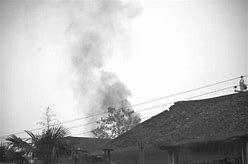smoke: (66, 4, 147, 139)
